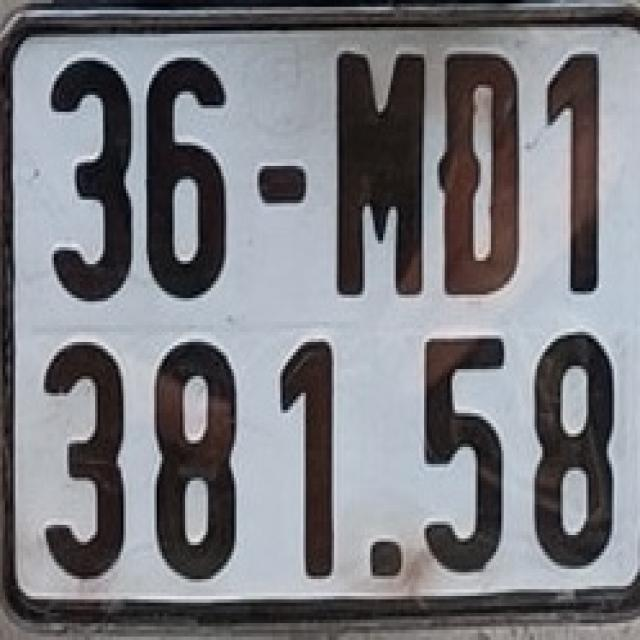1: (538, 40, 620, 298), (272, 332, 352, 582)
3: (33, 332, 131, 586), (44, 47, 136, 305)
5: (408, 322, 512, 580)
6: (138, 44, 236, 305)
8: (146, 328, 246, 586), (527, 322, 622, 576)
D: (434, 44, 530, 302)
M: (328, 38, 426, 296)
